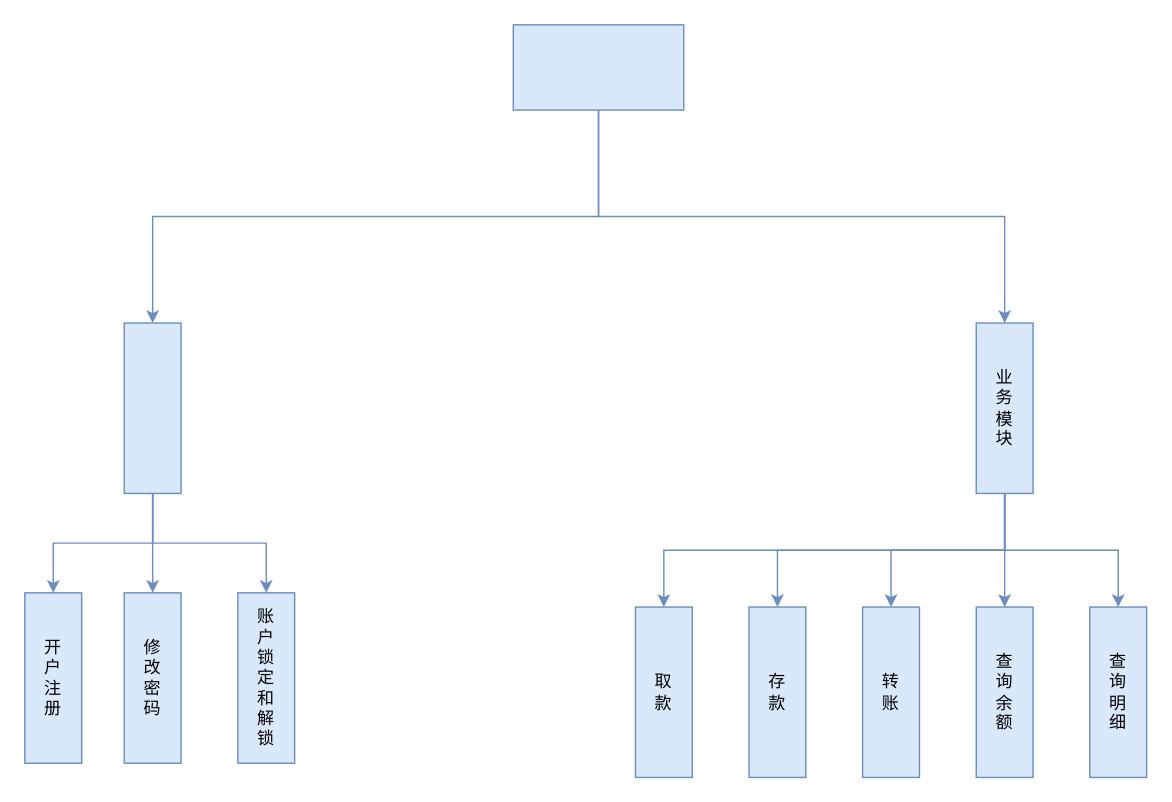
This 1172x802 diagram has some shape labels left out. The box of each missing label's shape, as (x1, y1, x2, y2) in pixels:
账 户 管 理 模 块: (123, 322, 181, 493)
银行管理系统: (512, 23, 684, 110)
